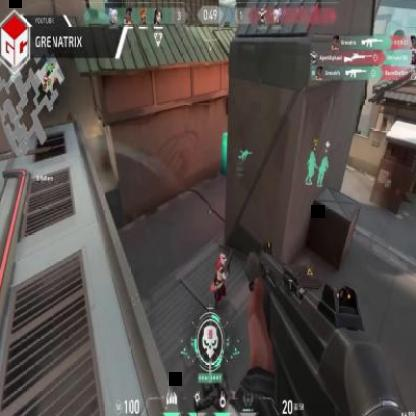enemy: (211, 249, 228, 309)
enemy_head: (220, 253, 228, 267)
